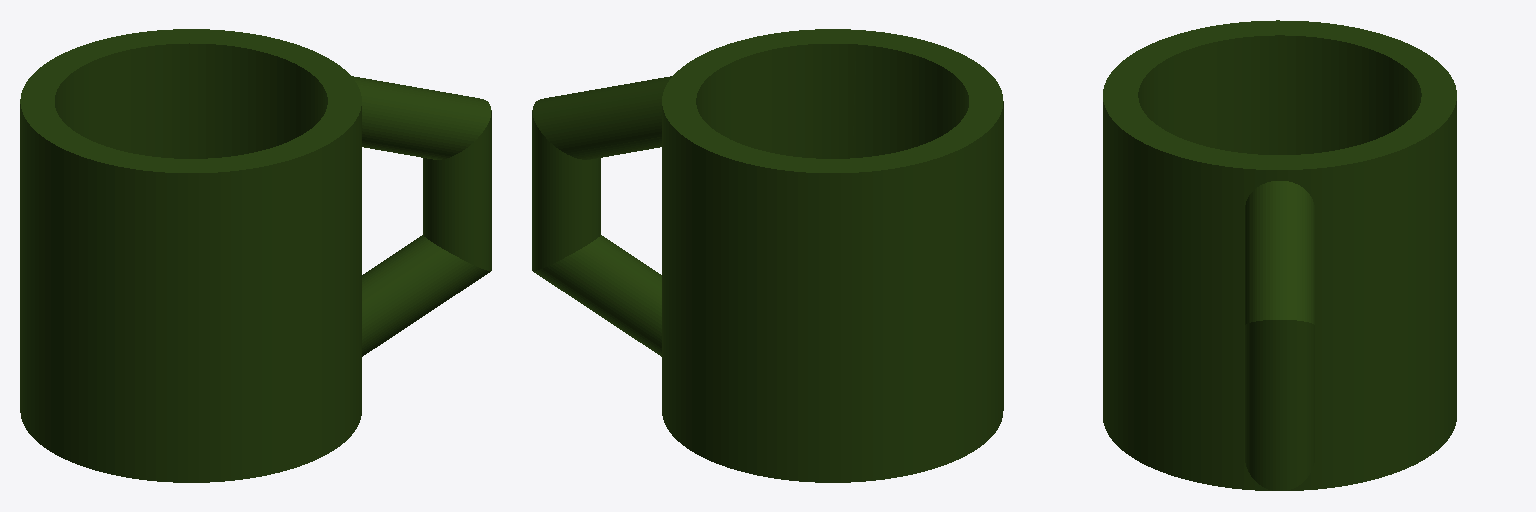
URDF robot description (mug):
<robot name="mug">
  <link name="mug_body_link">
    <inertial>
      <origin xyz="8.13E-03 3.27E-07 -7.84E-03" rpy="0 0 0"/>
      <mass value="4.09E-01"/>
      <inertia ixx="6.9361E-04" ixy="2.7599E-07" ixz="2.6047E-05" iyy="9.1656E-04" iyz="-1.9292E-09" izz="8.6403E-04"/>
    </inertial>
    <visual>
      <origin xyz="0 0 0" rpy="0 0 0"/>
      <geometry>
        <mesh filename="mug_visual.obj" scale="0.9 0.9 0.9"/>
      </geometry>
      <material name="">
        <color rgba="0.2 0.3 0.1 1"/>
      </material>
    </visual>

    <collision>
      <origin rpy="0 0 0" xyz="0 0 0"/>
      <geometry>
        <cylinder length="0.09" radius="0.0405"/>
      </geometry>
    </collision>
    <collision>
      <origin rpy="0 -1.071 0" xyz="0.063 0 0.0252"/>
      <geometry>
        <cylinder length="0.0486" radius="0.009"/>
      </geometry>
    </collision>
    <collision>
      <origin rpy="0 0 0" xyz="0.081 0 0"/>
      <geometry>
        <cylinder length="0.0486" radius="0.009"/>
      </geometry>
    </collision>
    <collision>
      <origin rpy="0 1.071 0" xyz="0.063 0 -0.0252"/>
      <geometry>
        <cylinder length="0.0486" radius="0.009"/>
      </geometry>
    </collision>
  </link>
</robot>

--- What the picture shows (computed from the rendered views, not written in the file) ---
3 views of the same robot in one strip: view 1: azimuth 30°, elevation 25°; view 2: azimuth 150°, elevation 25°; view 3: azimuth 270°, elevation 25° (orthographic).
Model mug with 1 links and 0 joints (none), rooted at mug_body_link, posed all joints at 0.
Visible links, largest first — view 1: mug_body_link; view 2: mug_body_link; view 3: mug_body_link.
Boxes of the visible links, x1,y1,x2,y2 form: mug_body_link: [20, 29, 491, 482]; mug_body_link: [532, 29, 1003, 482]; mug_body_link: [1103, 20, 1456, 490].
Size in the robot's own frame: 0.135 by 0.09 by 0.09 metres.
Meshes: 1 distinct files referenced, 1 mesh visuals loaded (1 OBJ).